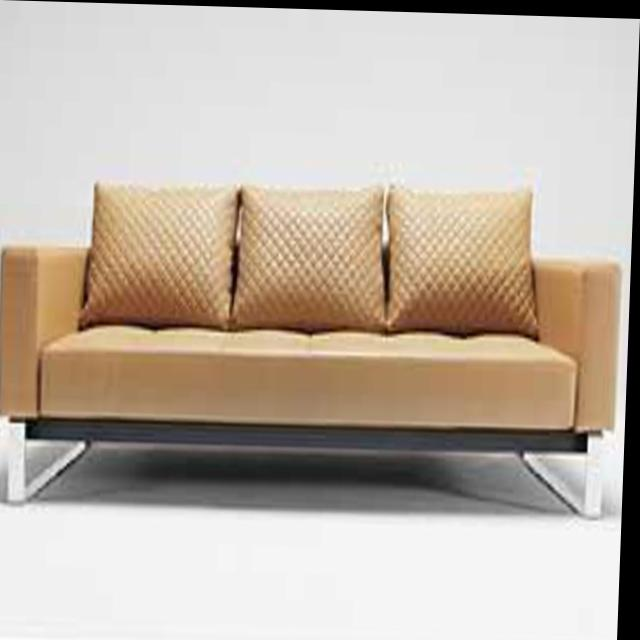Sofa: (0, 176, 626, 520)
